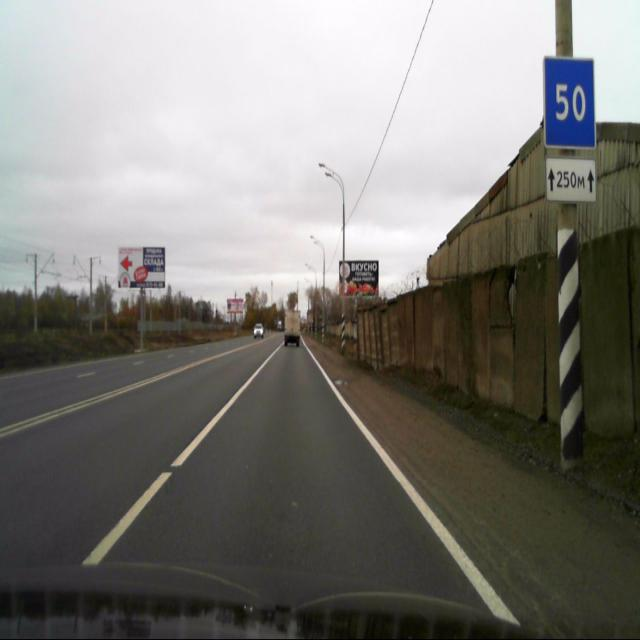road sign: (542, 56, 594, 147), (546, 156, 596, 204)
